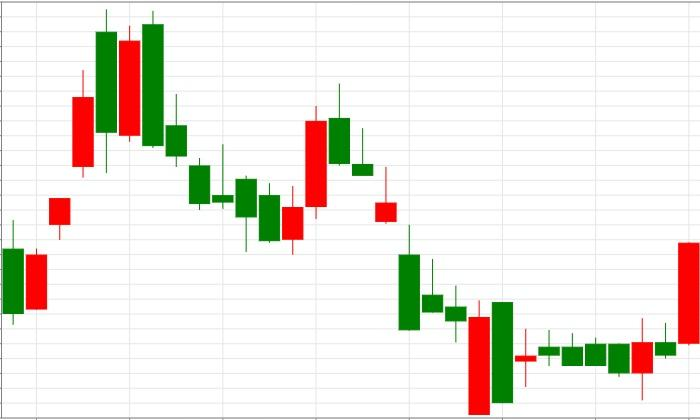bearish_engulfing_fall: (26, 8, 164, 309)
